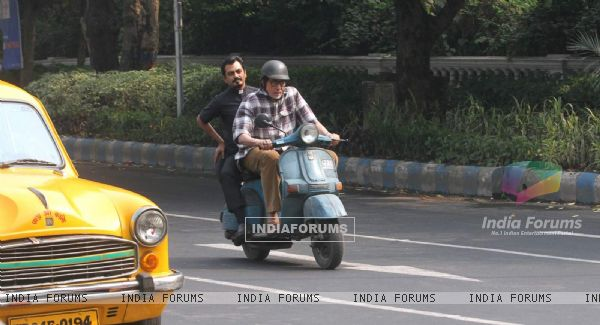helmet: (258, 58, 290, 91)
